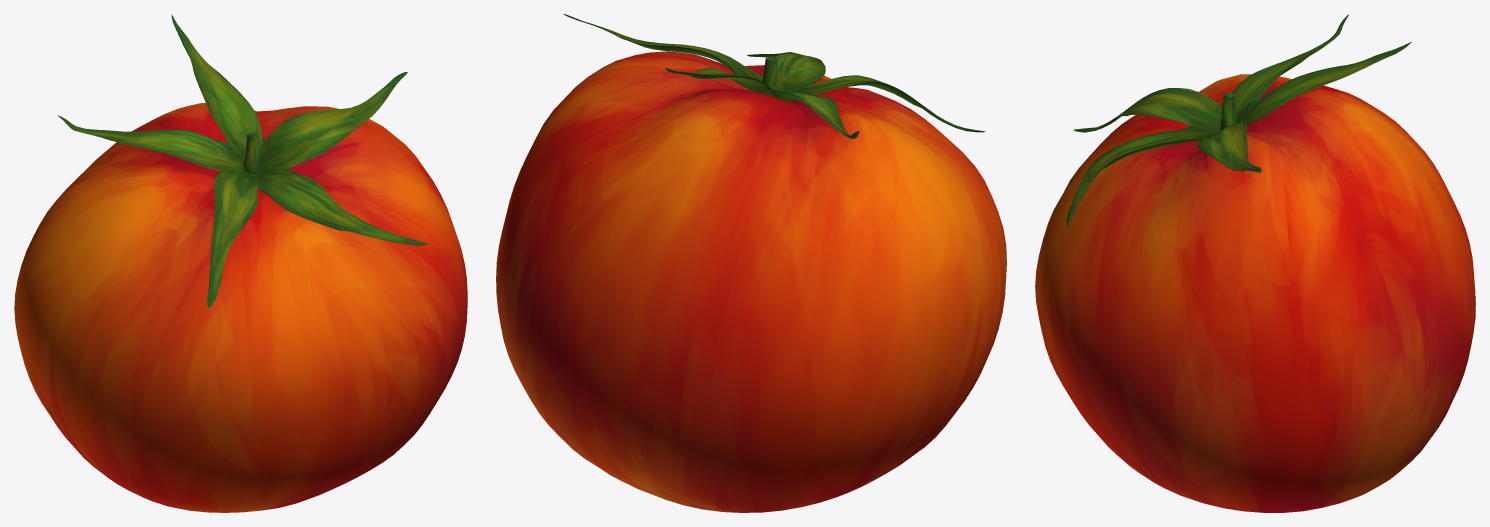
Rendered from tomato.obj.
The picture shows the model from 3 angles, left to right: view 1: azimuth 30°, elevation 25°; view 2: azimuth 150°, elevation 25°; view 3: azimuth 270°, elevation 25°; orthographic projection. The views are drawn at different scales.
Visible parts, largest first — view 1: Tomato.1_Mesh_0; view 2: Tomato.1_Mesh_0; view 3: Tomato.1_Mesh_0.
Boxes of the visible parts, x1=… form: Tomato.1_Mesh_0: x1=14, y1=14, x2=467, y2=512; Tomato.1_Mesh_0: x1=496, y1=14, x2=1006, y2=512; Tomato.1_Mesh_0: x1=1035, y1=14, x2=1475, y2=512.
Size of the model in its own units: 0.6136 by 0.6193 by 0.5628.
